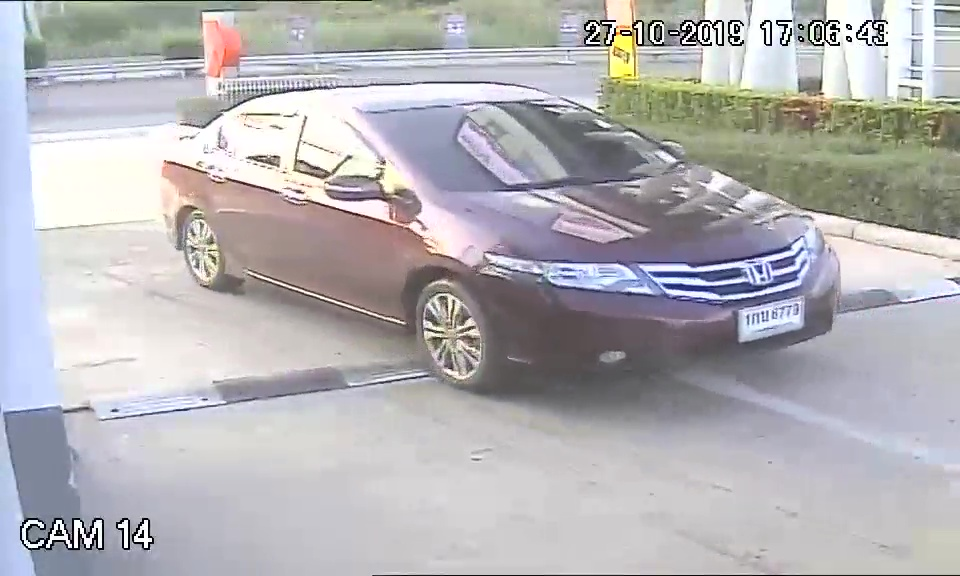sedan: (160, 81, 850, 396)
